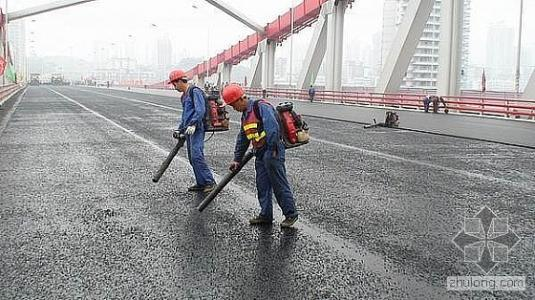helmet: (220, 82, 248, 109), (167, 67, 191, 91)
